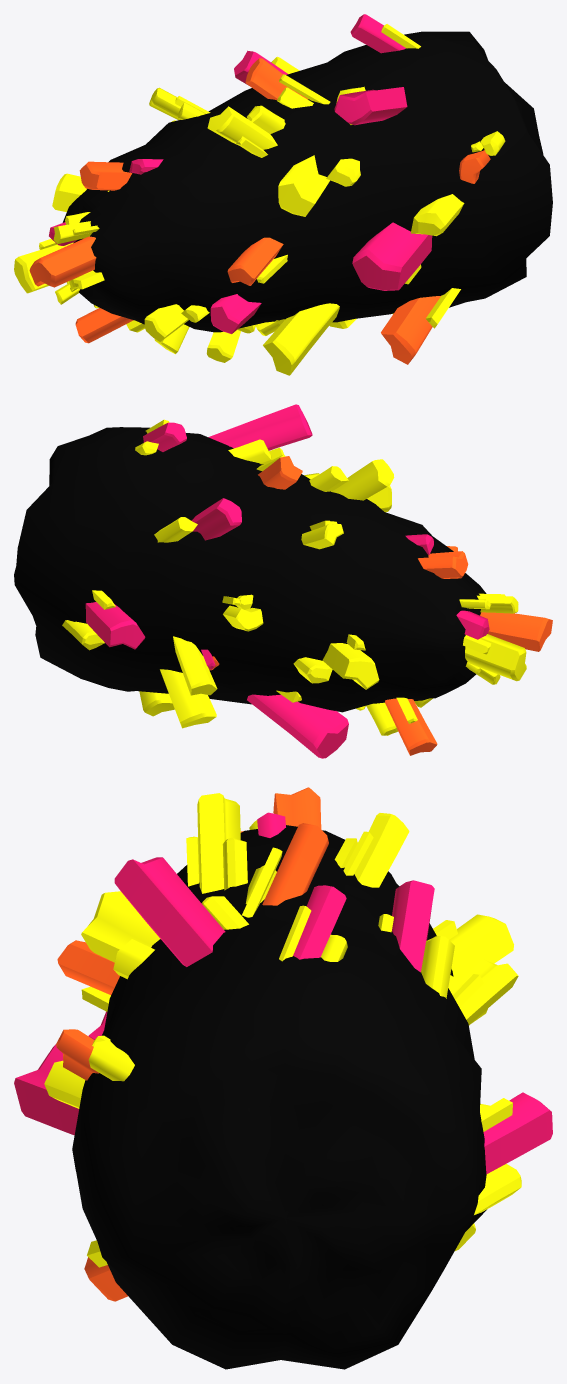
Rendered from BossRockV3.fbx.
The picture shows the model from 3 angles, top to bottom: view 1: azimuth 30°, elevation 25°; view 2: azimuth 150°, elevation 25°; view 3: azimuth 270°, elevation 25°; orthographic projection. The views are drawn at different scales.
Visible parts, largest first — view 1: polySurface214; view 2: polySurface214; view 3: polySurface214.
Part boxes in pixels (left/top/right/bottom): polySurface214: left=14, top=14, right=552, bottom=375; polySurface214: left=14, top=404, right=552, bottom=758; polySurface214: left=14, top=787, right=552, bottom=1369.
Size of the model in its own units: 318 by 176 by 198.
